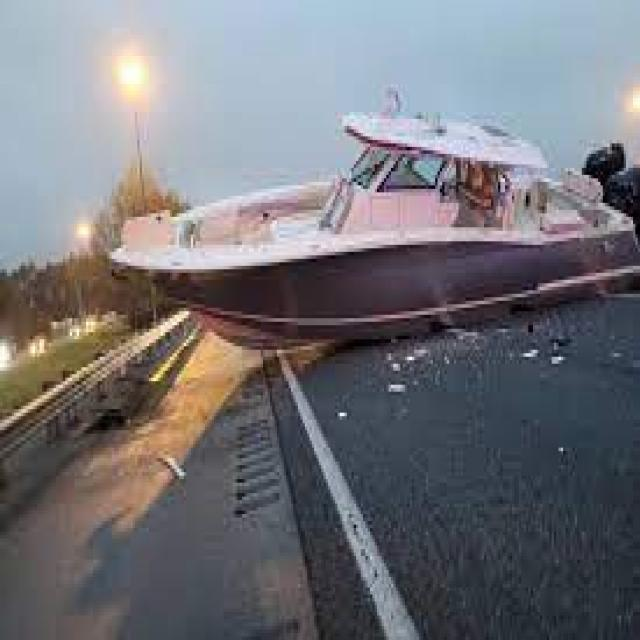ship2: (110, 117, 639, 344)
